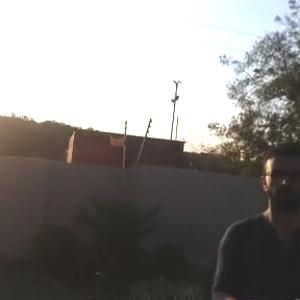follow: (206, 134, 299, 299)
